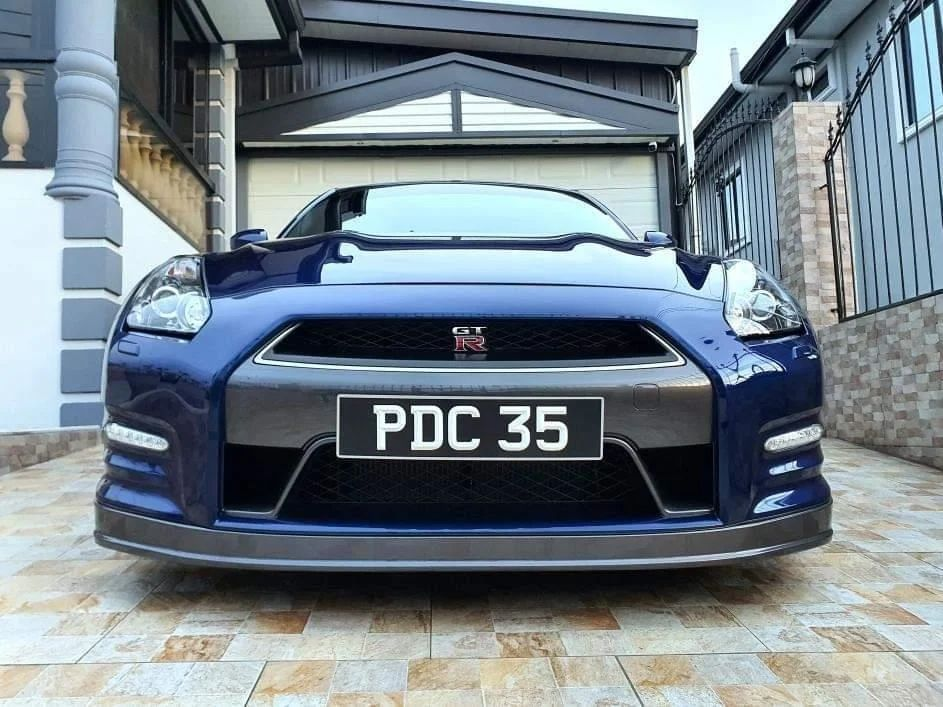License-Plate: (338, 398, 601, 458)
